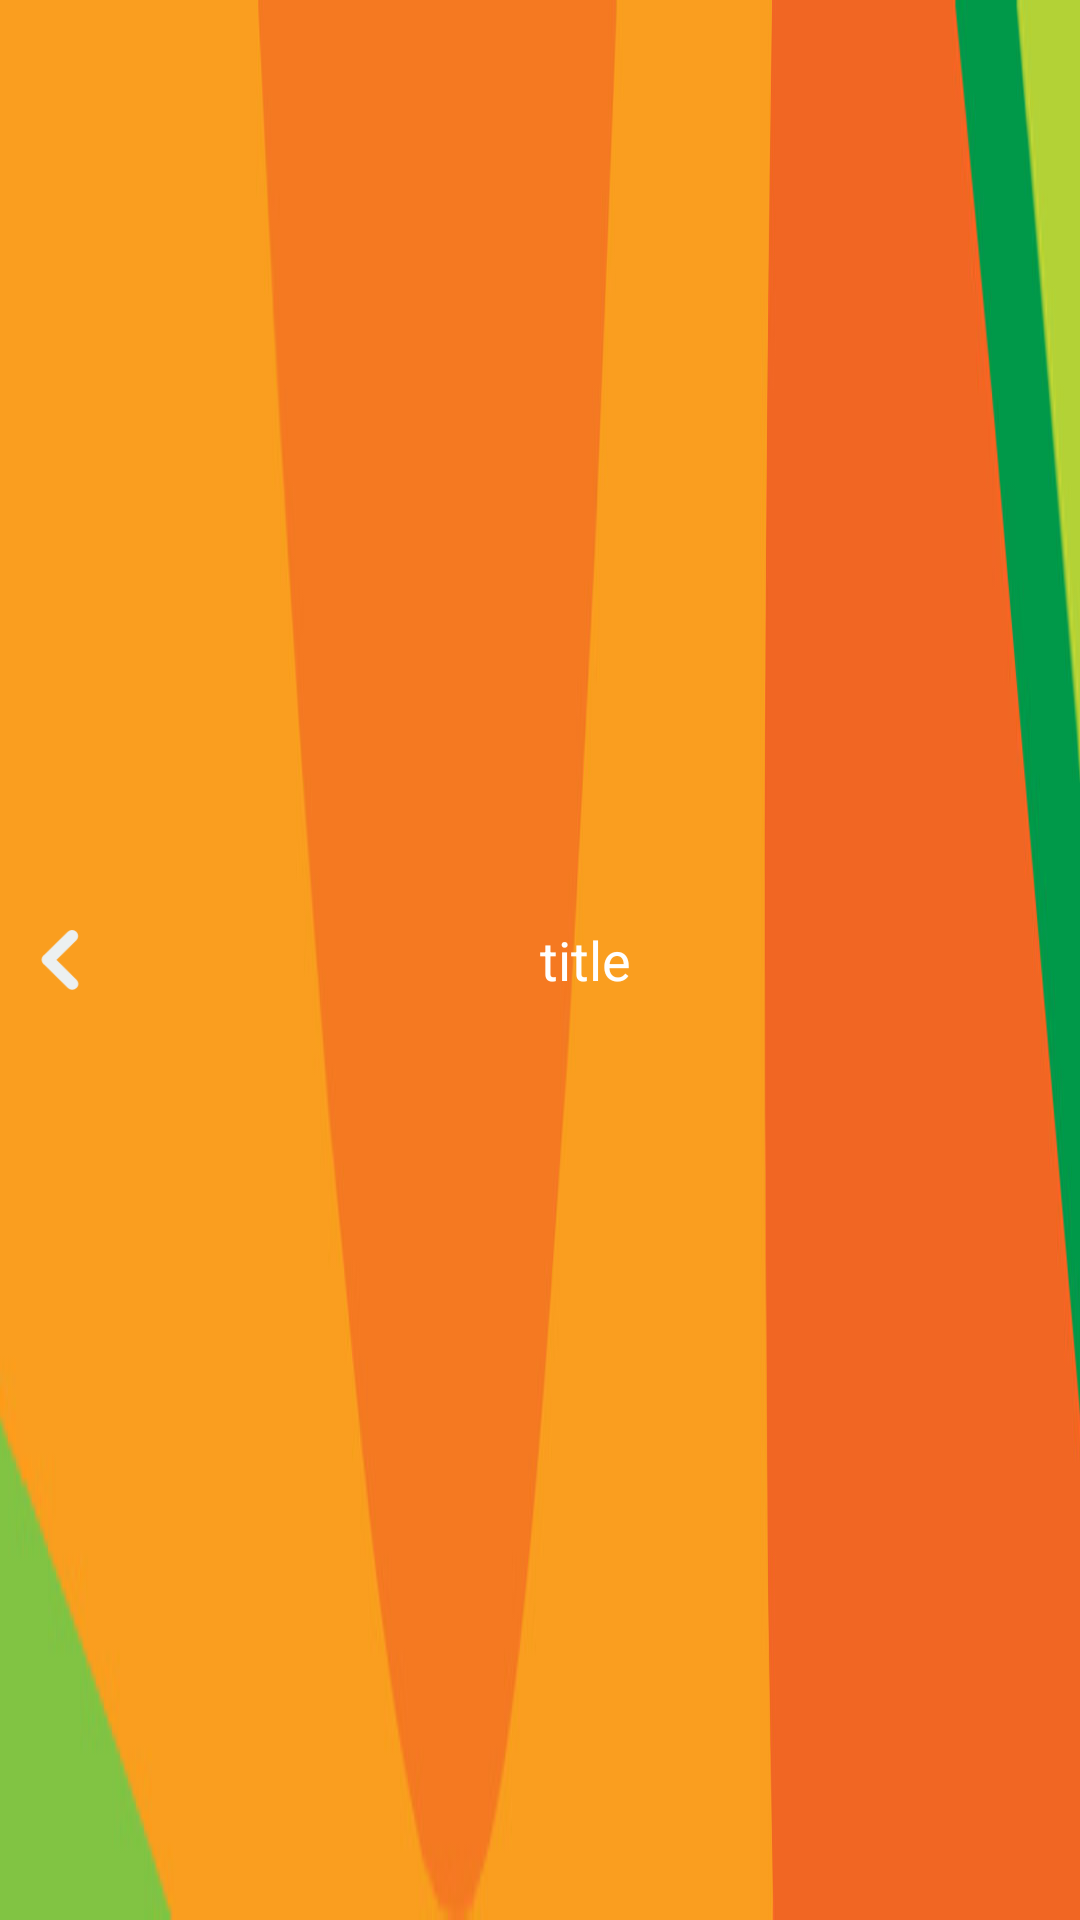

Icons on this 1080*1920 Android screen, each with its box as (x1, y1, x2, y2):
back: (41, 930, 79, 990)
